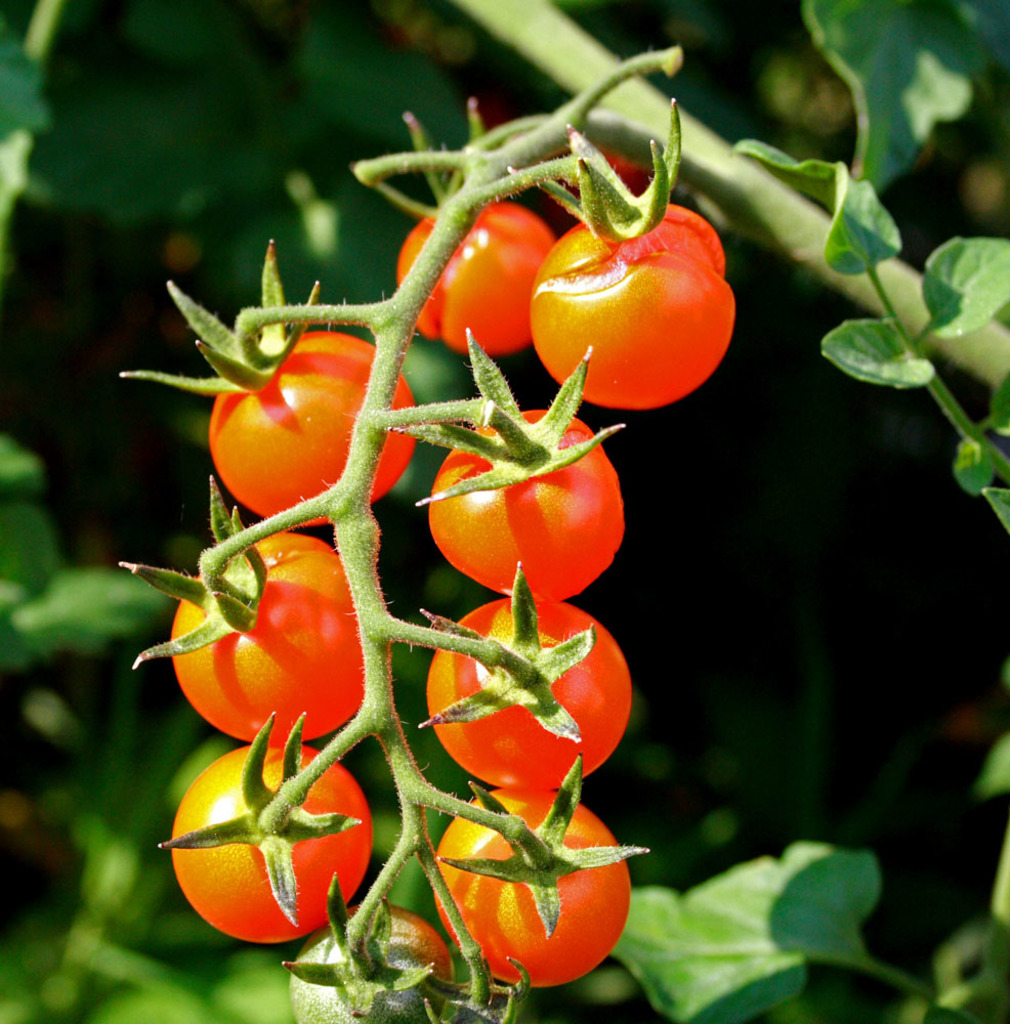Tomato: (120, 125, 736, 1024)
